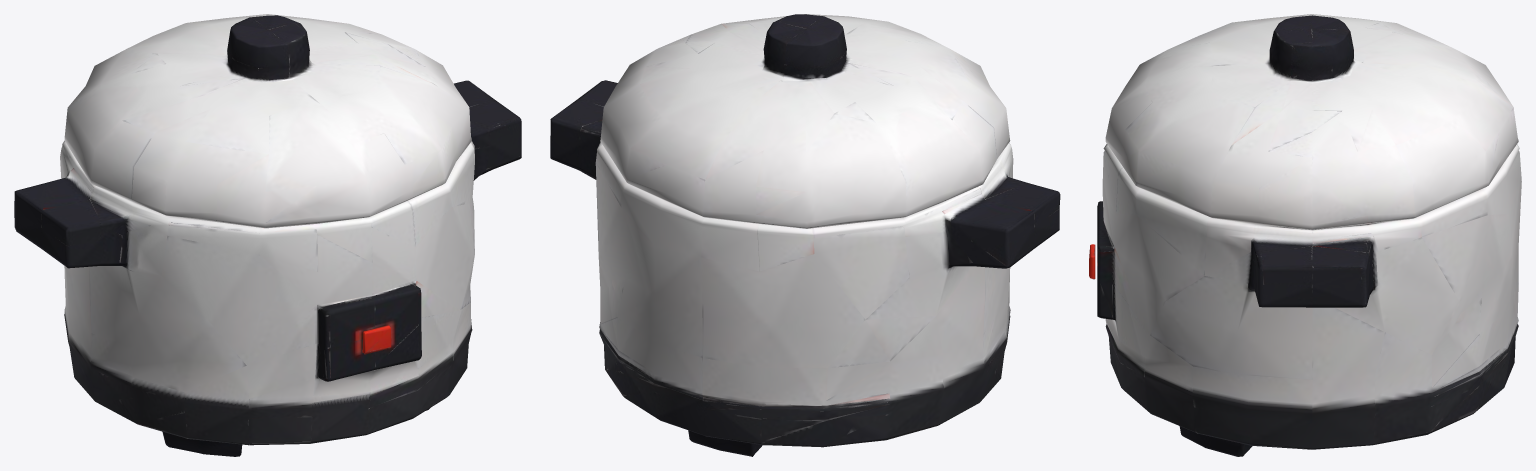
The model's file is art_rice_cooker.glb.
3 views of the same model, side by side, from view 1: azimuth 30°, elevation 25°; view 2: azimuth 150°, elevation 25°; view 3: azimuth 270°, elevation 25° (orthographic).
Size of the model in its own units: 1 by 0.7539 by 0.8184.
Materials: 1 (1 with a texture image).
